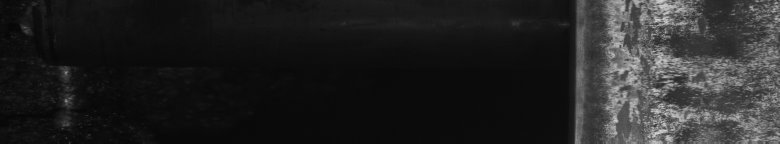kb: (599, 4, 776, 136)
